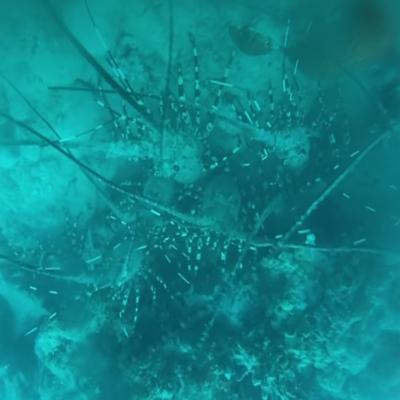lobster: (147, 100, 202, 182), (199, 165, 244, 244), (271, 102, 313, 182)
